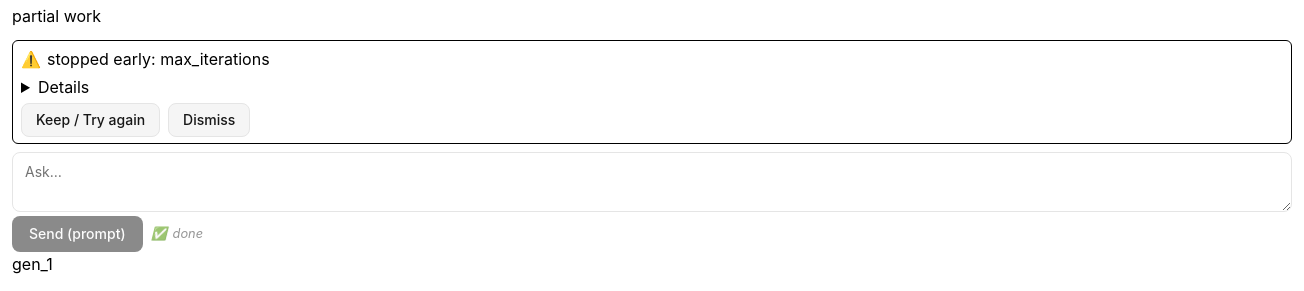
Test case: Chat › onretry returning a credential attaches a fresh generation (keepEvents)
Expected: the message "⚠️ stopped early: max_iterations Details Keep / Try again Dismiss" is shown, left=12, top=40, right=1292, bottom=144
Click the button with test id "alfred-retry-button" at (91, 120), box left=21, top=103, right=160, bottom=137
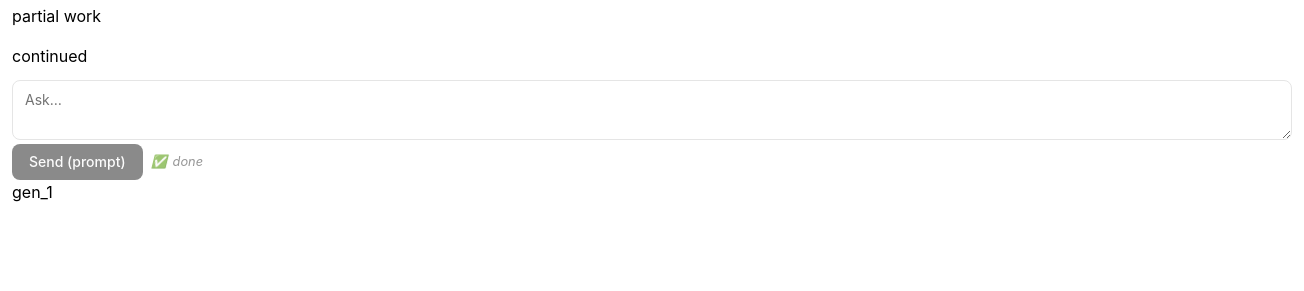
Expected: the element with test id "alfred-chat-messages" shows "partial work", left=12, top=6, right=101, bottom=26
Expected: the element with test id "alfred-chat-messages" shows "continued", left=12, top=46, right=87, bottom=66
